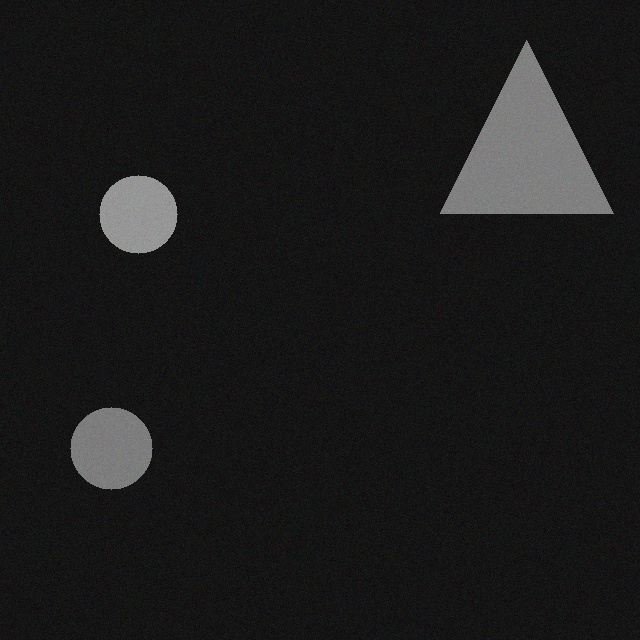circle: (82, 400, 164, 482), (111, 168, 189, 246)
triangle: (452, 33, 625, 206)
